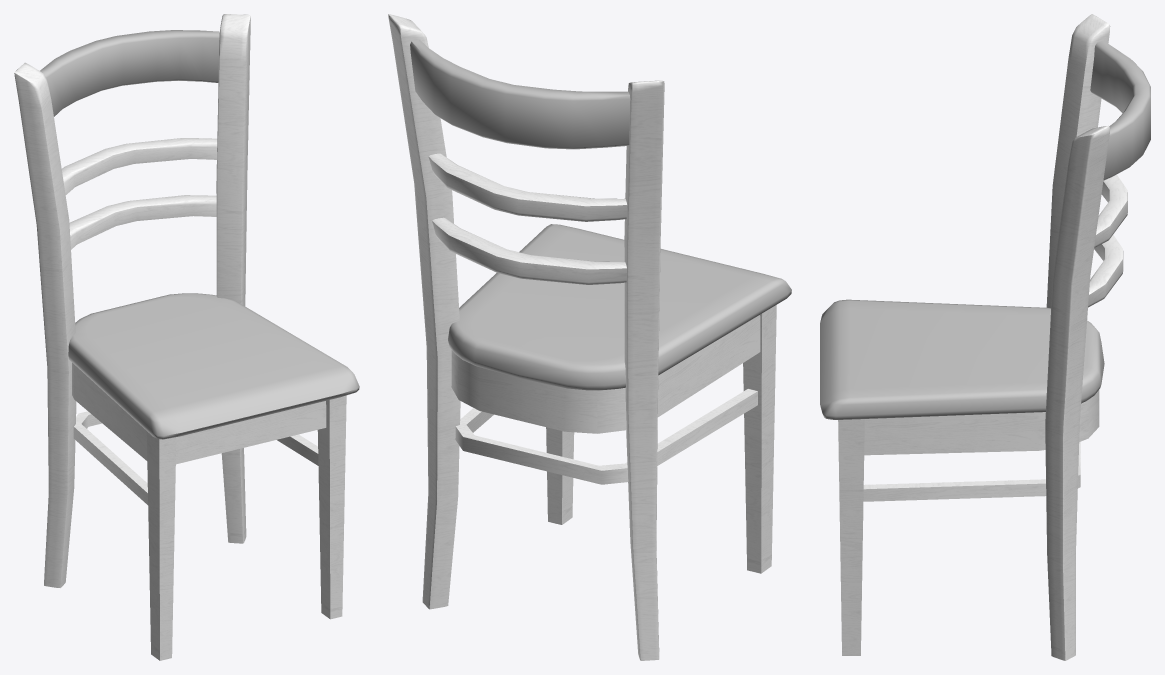
Rendered from Dining_Chair.fbx.
3 views of the same model, side by side, from view 1: azimuth 30°, elevation 25°; view 2: azimuth 150°, elevation 25°; view 3: azimuth 270°, elevation 25° (orthographic). The views are drawn at different scales.
Parts seen in each view (by area): view 1: Dining_Chair_LOD_0; view 2: Dining_Chair_LOD_0; view 3: Dining_Chair_LOD_0.
Boxes of the visible parts, <box> form: Dining_Chair_LOD_0: <box>14,14,359,660</box>; Dining_Chair_LOD_0: <box>388,14,791,660</box>; Dining_Chair_LOD_0: <box>820,14,1150,660</box>.
Size of what is drawn, in the model's own units: 51.1 by 105 by 58.88.
